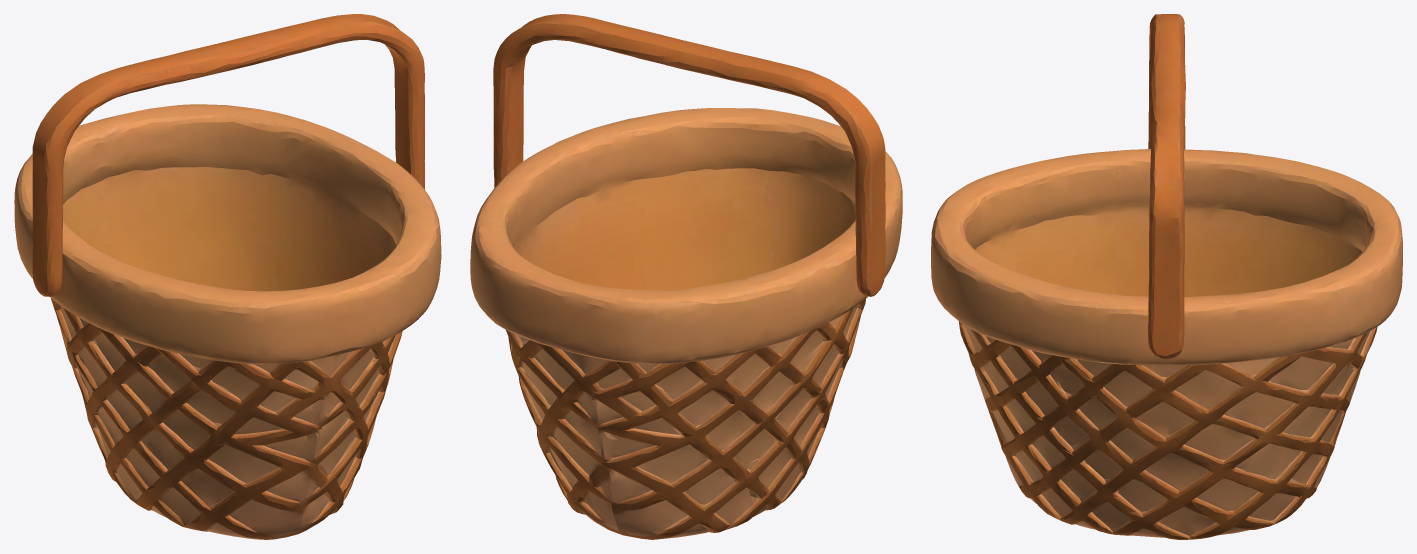
File: basket.glb
3 renders of one model, left to right at view 1: azimuth 30°, elevation 25°; view 2: azimuth 150°, elevation 25°; view 3: azimuth 270°, elevation 25°, orthographic. The views are drawn at different scales.
Visible parts, largest first — view 1: Mesh; view 2: Mesh; view 3: Mesh.
Boxes of the visible parts, x1,y1,x2,y2 form: Mesh: (14, 14, 441, 539); Mesh: (470, 14, 902, 539); Mesh: (931, 14, 1402, 539).
Size of the model in its own units: 0.895 by 1 by 0.9961.
Materials: 1 (1 with a texture image).
